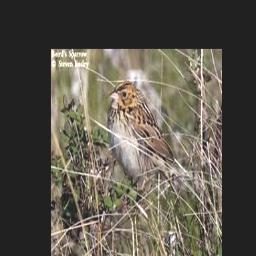Sparrow: (104, 80, 205, 200)
